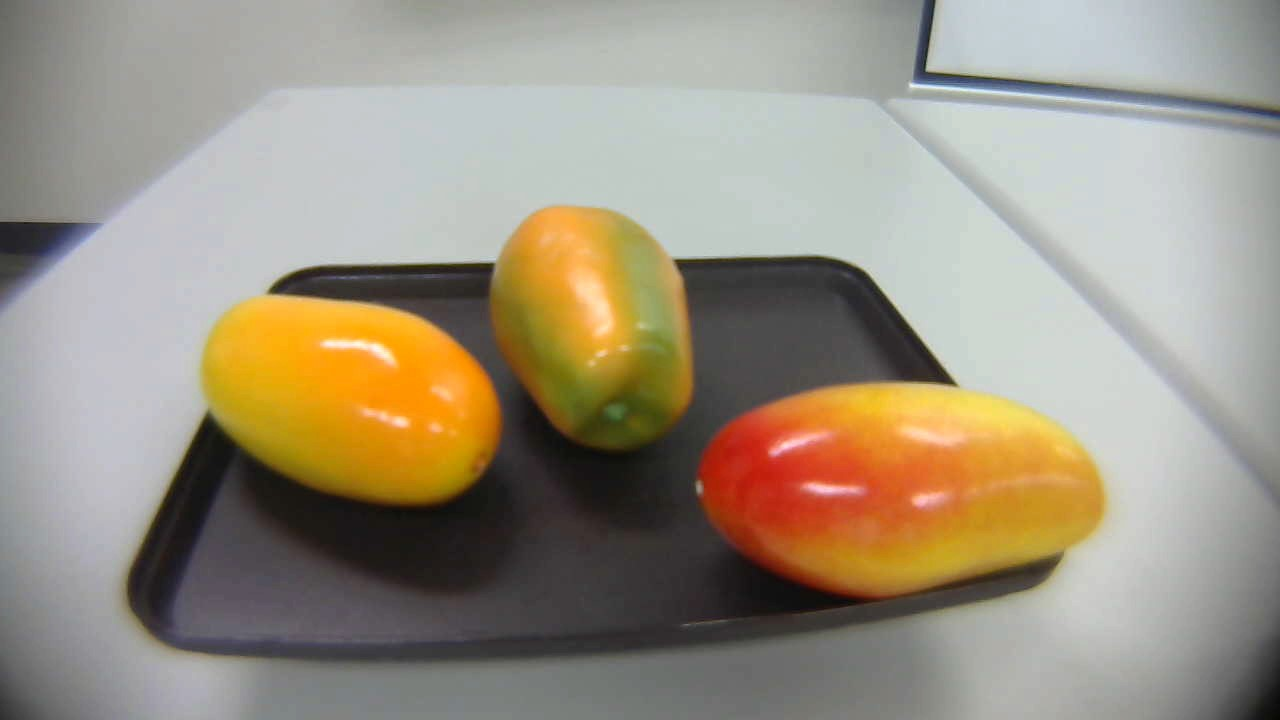papya: (470, 200, 705, 453)
red mango: (678, 380, 1112, 595)
yellow mango: (197, 288, 502, 509)
